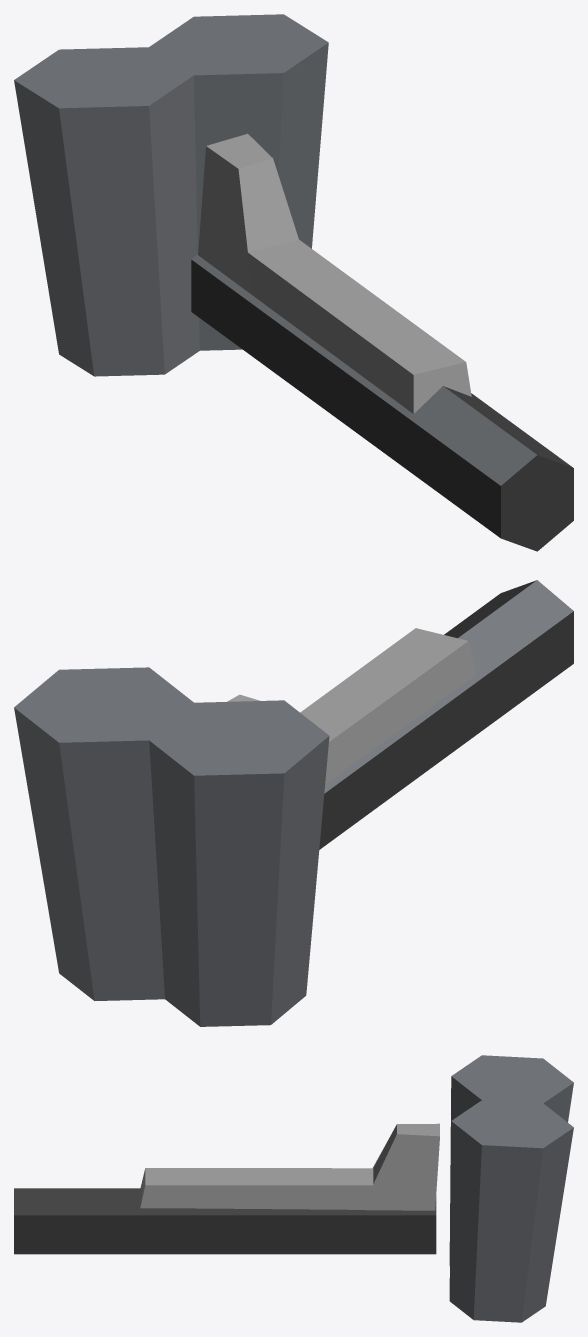
The model's file is pFlame.obj.
3 renders of one model, top to bottom at view 1: azimuth 30°, elevation 25°; view 2: azimuth 150°, elevation 25°; view 3: azimuth 270°, elevation 25°, orthographic. The views are drawn at different scales.
Parts seen in each view (by area): view 1: SHOTGUN_pistol_q2_SS_v1_0000_submodel00_mesh0000.003; view 2: SHOTGUN_pistol_q2_SS_v1_0000_submodel00_mesh0000.003; view 3: SHOTGUN_pistol_q2_SS_v1_0000_submodel00_mesh0000.003.
Boxes of the visible parts, x1=… form: SHOTGUN_pistol_q2_SS_v1_0000_submodel00_mesh0000.003: x1=14, y1=14, x2=573, y2=551; SHOTGUN_pistol_q2_SS_v1_0000_submodel00_mesh0000.003: x1=14, y1=580, x2=573, y2=1026; SHOTGUN_pistol_q2_SS_v1_0000_submodel00_mesh0000.003: x1=14, y1=1055, x2=573, y2=1322.
Bounding box in the file's own units: 2.81 × 2.77 × 7.4.
